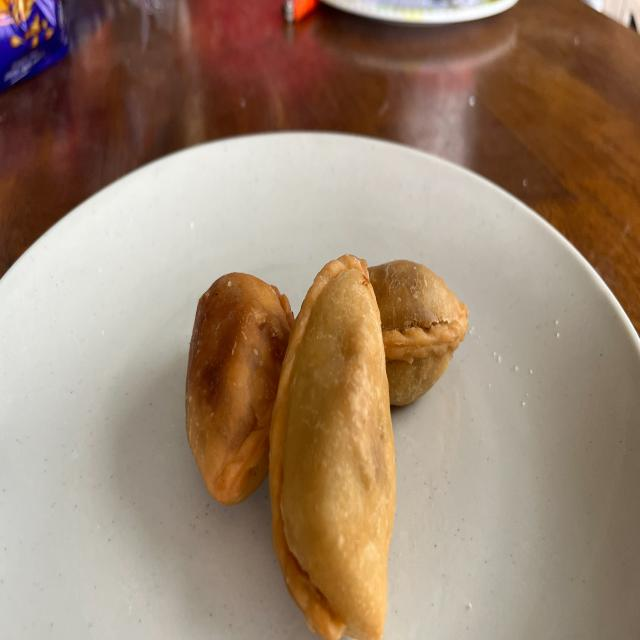karipap: (270, 256, 396, 638), (185, 273, 294, 504), (369, 260, 468, 404)
